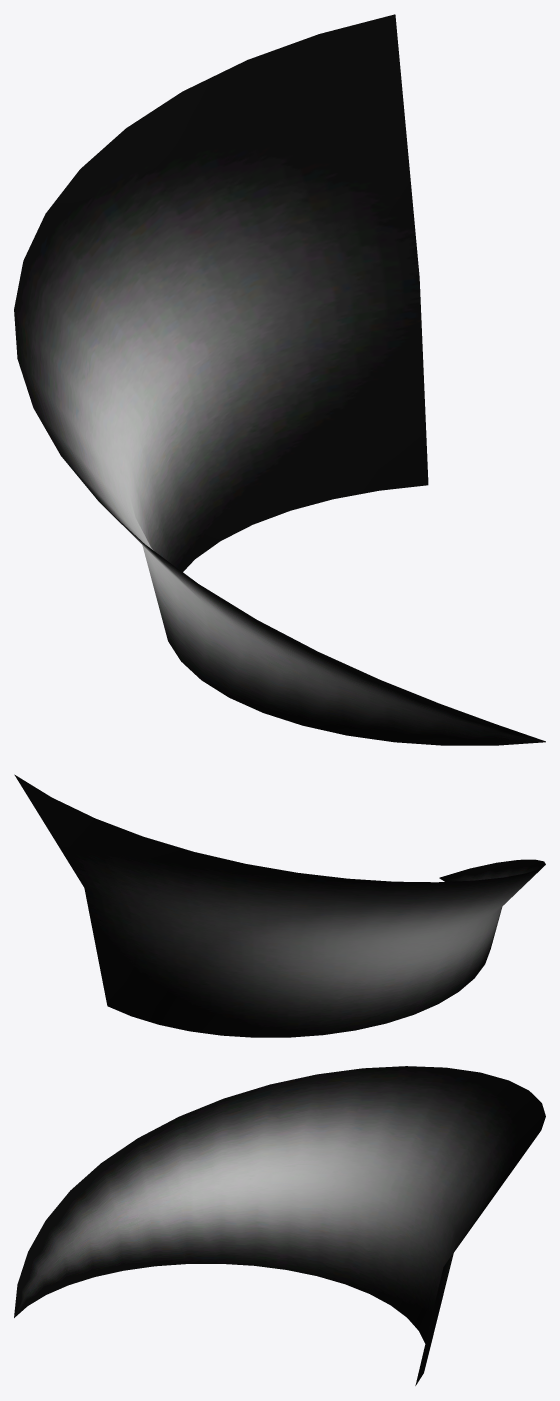
Rendered from vfx_kurp_0677.dae.
The picture shows the model from 3 angles, top to bottom: view 1: azimuth 30°, elevation 25°; view 2: azimuth 150°, elevation 25°; view 3: azimuth 270°, elevation 25°; orthographic projection. The views are drawn at different scales.
Visible parts, largest first — view 1: vfx_kurp_0677; view 2: vfx_kurp_0677; view 3: vfx_kurp_0677.
Part boxes in pixels (x1=…): vfx_kurp_0677: x1=14, y1=14, x2=545, y2=745; vfx_kurp_0677: x1=14, y1=774, x2=545, y2=1037; vfx_kurp_0677: x1=14, y1=1066, x2=545, y2=1385.
Size of the model in its own units: 4.81 by 6.36 by 3.42.
1 material, 1 textured.
